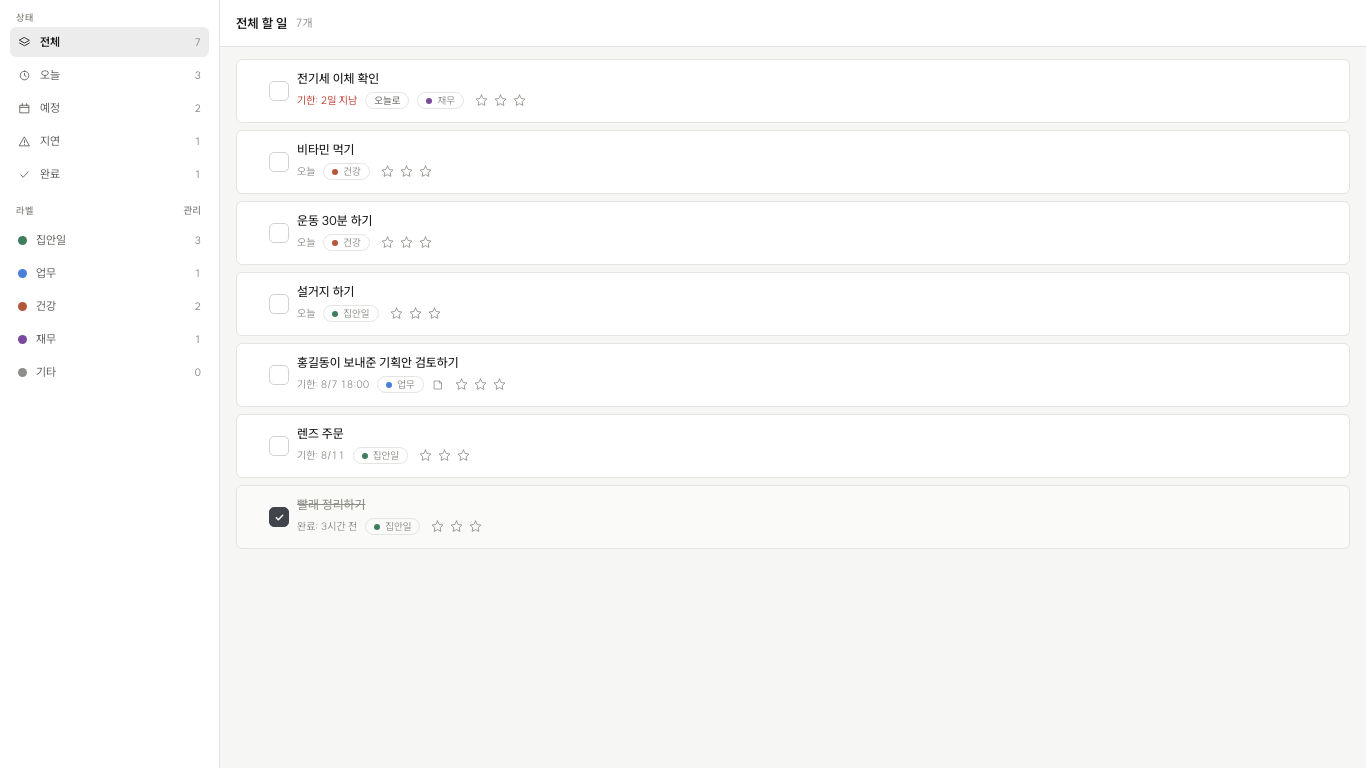
Scenario: TodoPage › switches status filters with the keyboard and layers a label filter on top
Press End in the radio button labelled "전체 7", box [10,27,209,57]
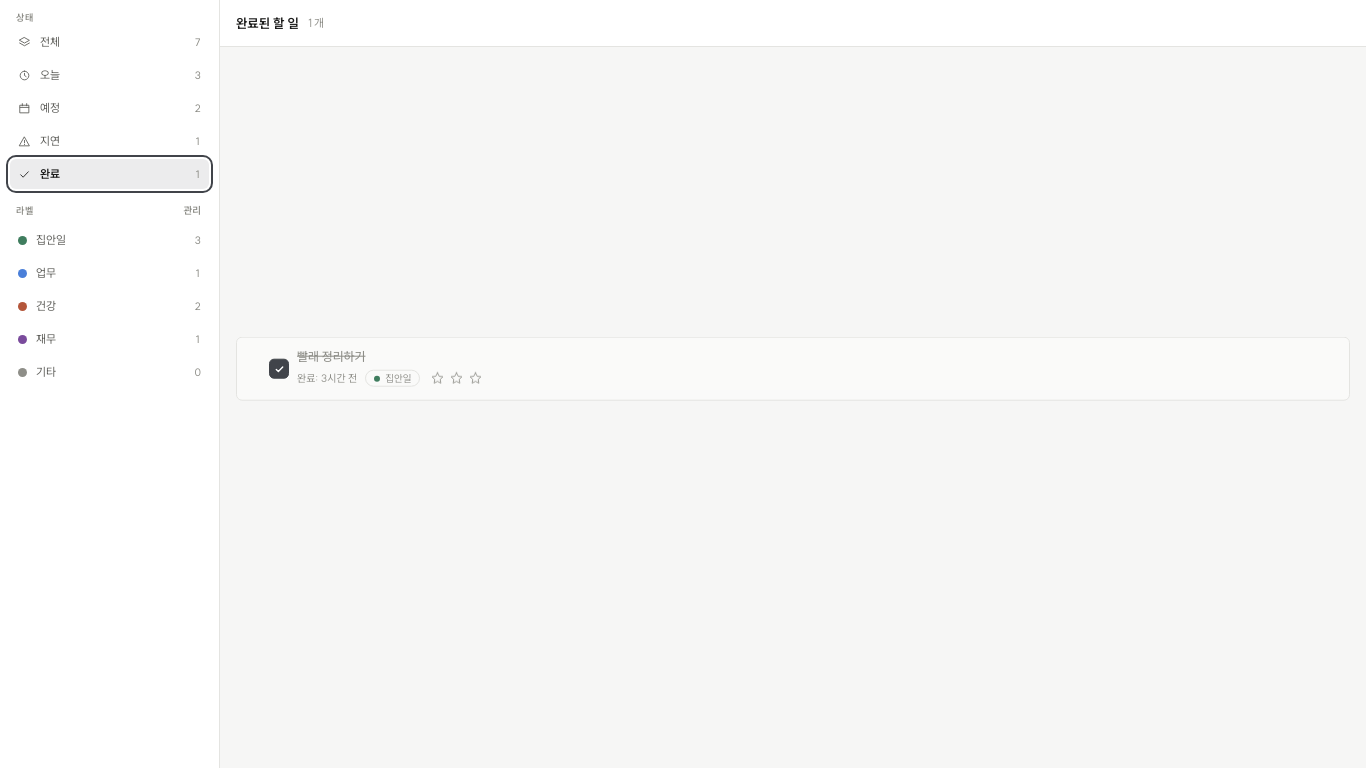
Result: the text "설거지 하기" is gone
Click the button "업무 1" at (110, 273), box [10,258,209,288]
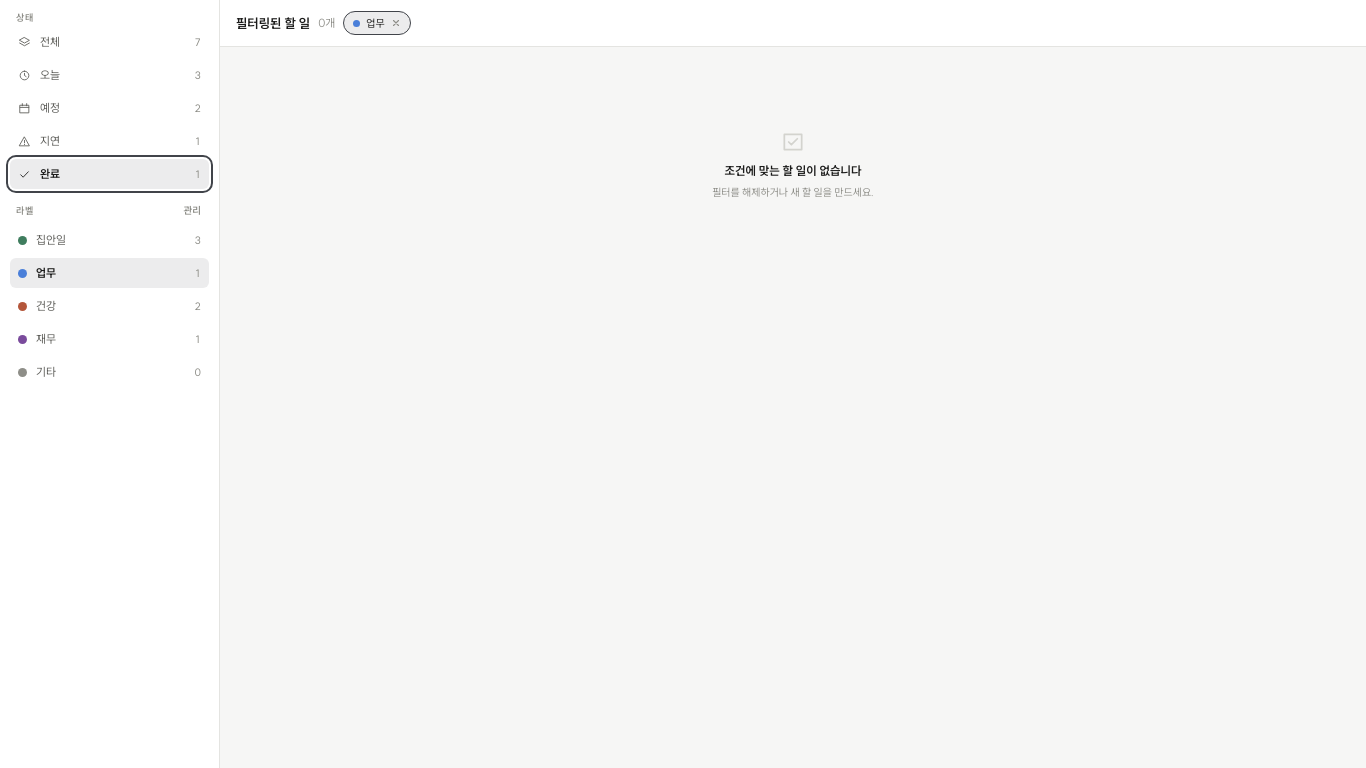
Result: the text "조건에 맞는 할 일이 없습니다" is shown at [724,163,861,178]
Result: the button with aria-label "업무 필터 해제" is shown at [343,11,411,35]
